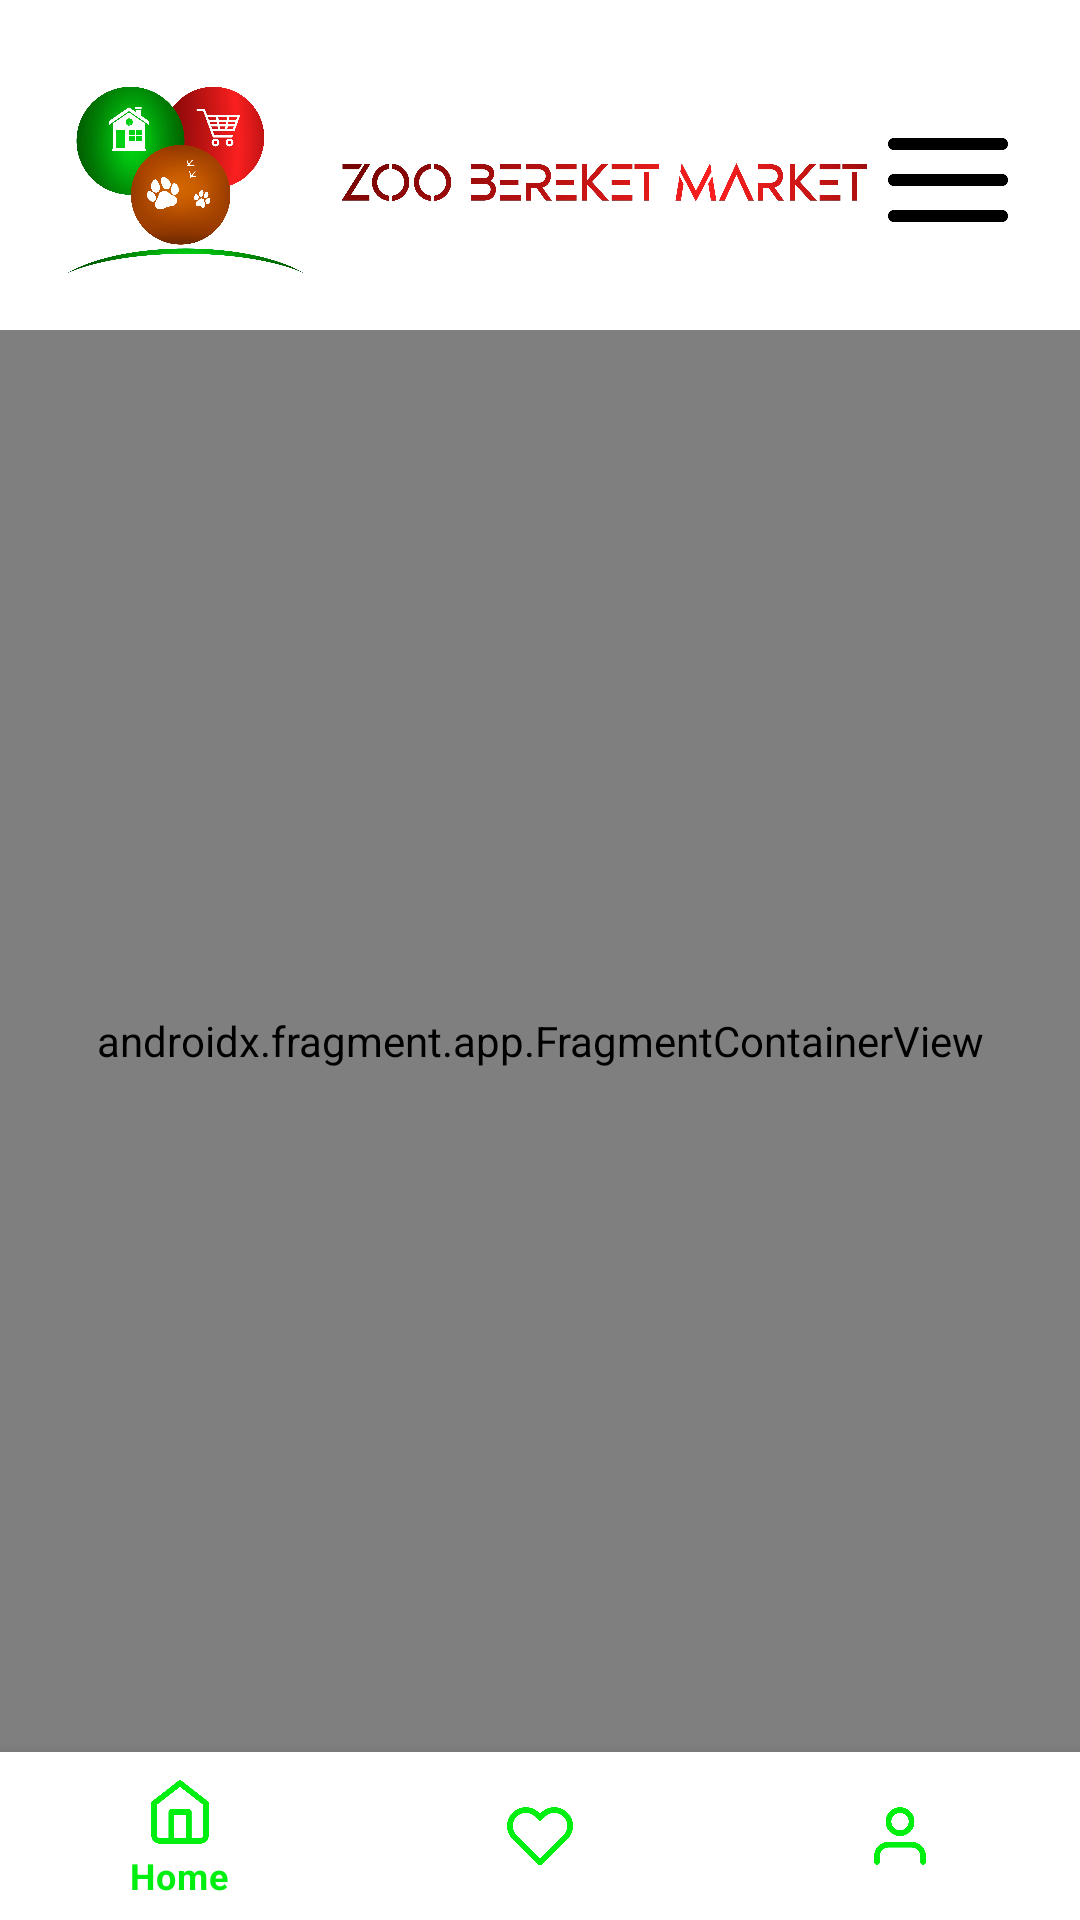

Where to tap for icons on this 1080*1920 app screen, as point (x, y):
animals menu: point (948, 180)
